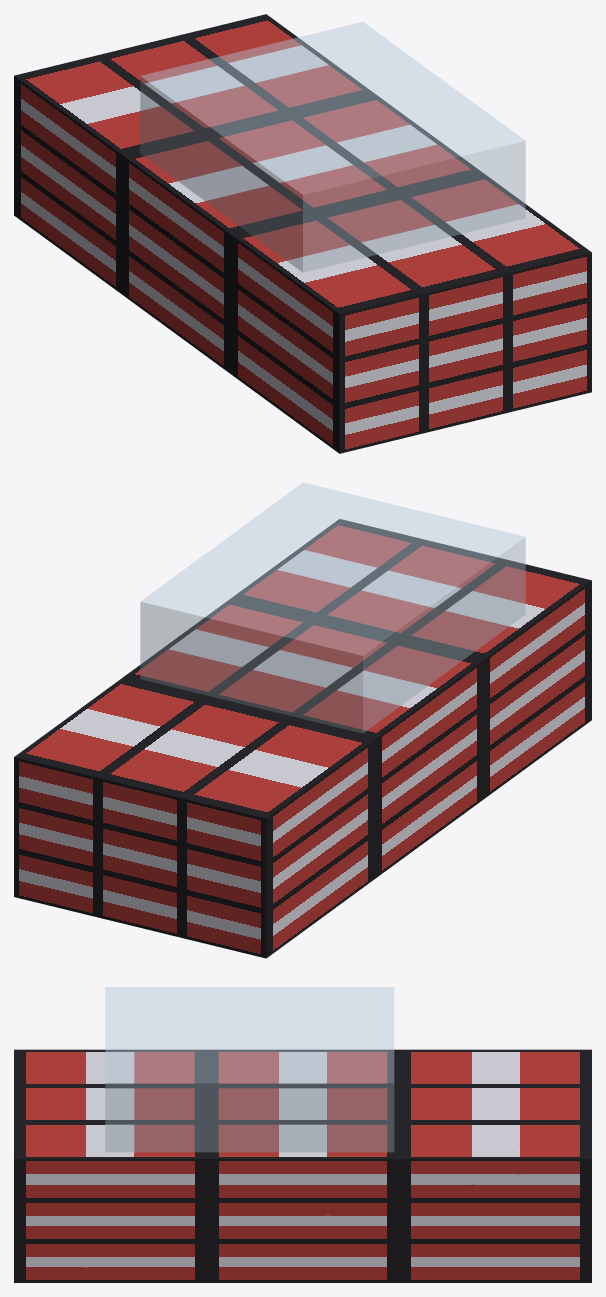
Rendered from demo_vehicle.glb.
The picture shows the model from 3 angles, top to bottom: view 1: azimuth 30°, elevation 25°; view 2: azimuth 150°, elevation 25°; view 3: azimuth 270°, elevation 25°; orthographic projection. The views are drawn at different scales.
Size of the model in its own units: 1.7 by 1.4 by 3.8.
2 materials, 1 textured.
